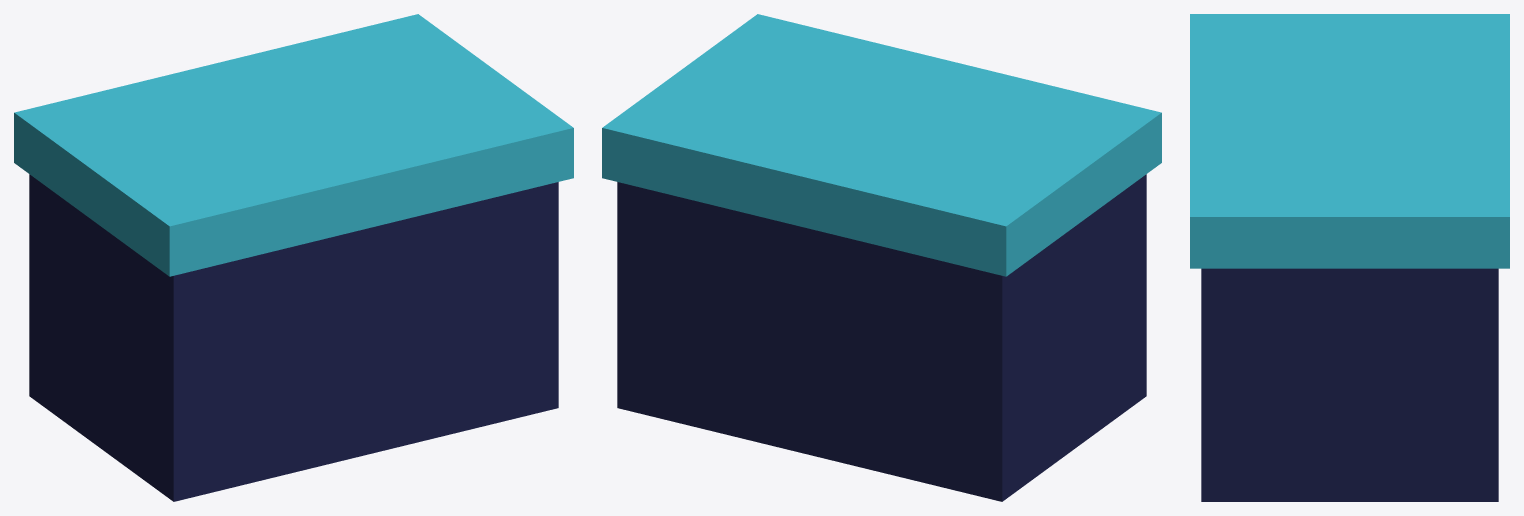
File: ammo_rail.glb
The picture shows the model from 3 angles, left to right: view 1: azimuth 30°, elevation 25°; view 2: azimuth 150°, elevation 25°; view 3: azimuth 270°, elevation 25°; orthographic projection. The views are drawn at different scales.
Parts seen in each view (by area): view 1: ammo_rail; view 2: ammo_rail; view 3: ammo_rail.
Part boxes in pixels (x1,y1,x2,y2): ammo_rail: (14,14,573,501); ammo_rail: (602,14,1161,501); ammo_rail: (1190,14,1509,501).
Bounding box in the file's own units: 0.42 × 0.28 × 0.28.
